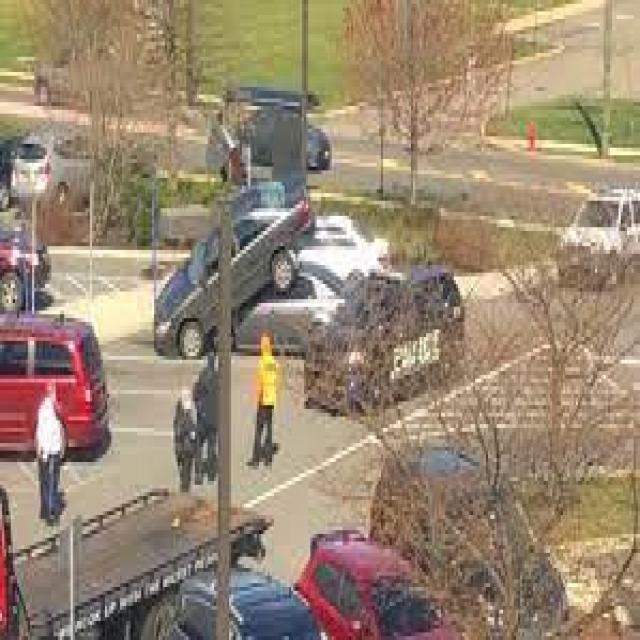severe: (146, 195, 362, 358)
